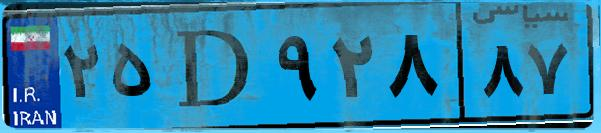2: (330, 28, 385, 110), (57, 26, 110, 100)
5: (110, 28, 158, 98)
7: (525, 38, 570, 115)
8: (385, 28, 445, 110), (475, 38, 525, 113)
9: (270, 28, 330, 110)
D: (158, 12, 270, 120)
